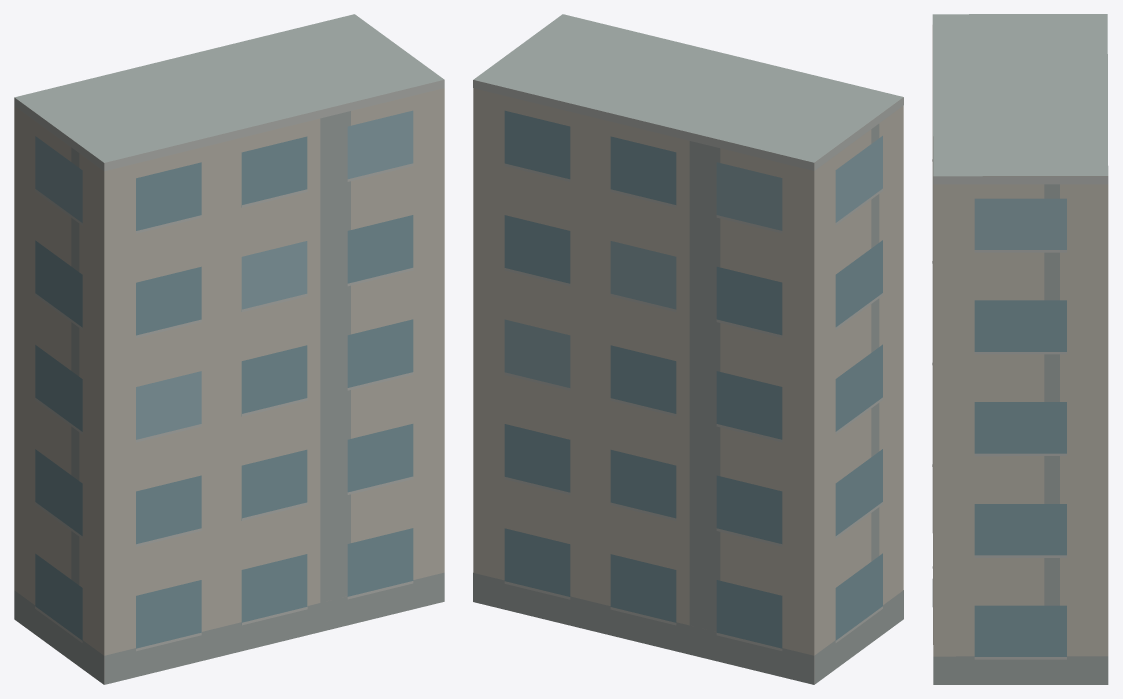
File: survey-upis-32728812.glb
3 views of the same model, side by side, from view 1: azimuth 30°, elevation 25°; view 2: azimuth 150°, elevation 25°; view 3: azimuth 270°, elevation 25° (orthographic). The views are drawn at different scales.
Parts seen in each view (by area): view 1: survey-upis-32728812.tmp; view 2: survey-upis-32728812.tmp; view 3: survey-upis-32728812.tmp.
Boxes of the visible parts, x1,y1,x2,y2 form: survey-upis-32728812.tmp: (14,14,444,684); survey-upis-32728812.tmp: (473,14,903,684); survey-upis-32728812.tmp: (932,14,1108,684).
Bounding box in the file's own units: 10.45 × 15.25 × 4.79.
